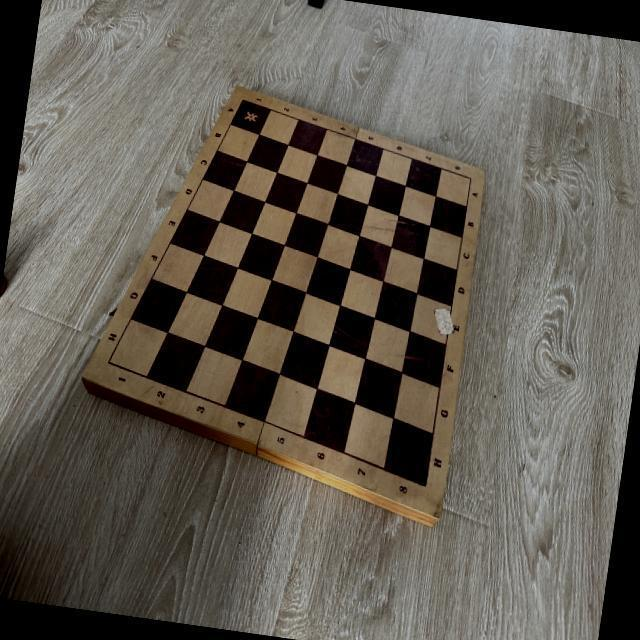chess-table-corners: (105, 356, 114, 368), (421, 481, 430, 492), (240, 96, 247, 104), (468, 174, 474, 183)
